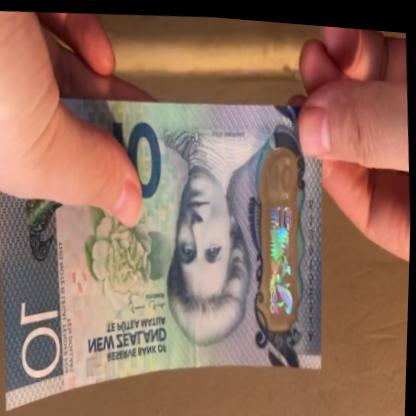10B: (257, 155, 303, 318)
